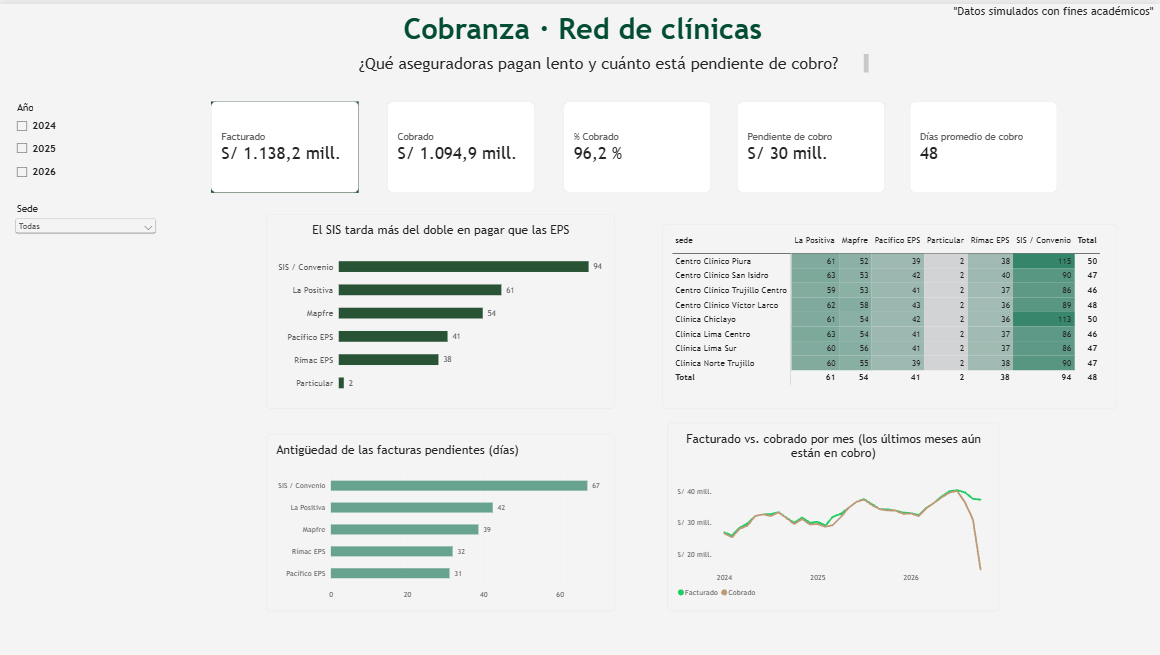

This screenshot's page, from the dashboard's own definition file:
{"tool":"powerbi","page":{"name":"Cobranza","canvas":[1920,1080],"ordinal":3},"visuals":[{"type":"textbox","box":[597.5,82.5,840,37.5],"z":0},{"type":"textbox","box":[670,12.5,952,70],"z":1000},{"type":"textbox","box":[1576,0,344,62],"z":2000},{"type":"slicer","fields":{"Values":["dim_fecha.anio"]},"box":[27.5,160,242.5,150],"z":3000},{"type":"slicer","fields":{"Values":["dim_sede.sede"]},"box":[27.5,327.5,242,76],"z":4000},{"type":"cardVisual","fields":{"Data":["Medidas1.% Cobrado"]},"box":[935,160,243,150],"z":5000},{"type":"cardVisual","fields":{"Data":["Medidas1.Facturado"]},"box":[355,160,243,150],"z":6000},{"type":"cardVisual","fields":{"Data":["Medidas1.Pendiente de cobro"]},"box":[1220,160,243,150],"z":7000},{"type":"cardVisual","fields":{"Data":["Medidas1.Cobrado"]},"box":[645,160,243,150],"z":8000},{"type":"lineChart","title":"Facturado vs. cobrado por mes (los últimos meses aún están en cobro)","fields":{"Category":["dim_fecha.mes"],"Y":["Medidas1.Facturado","Medidas1.Cobrado"]},"box":[1105.1,689.7,546.2,310.3],"z":9000},{"type":"barChart","title":"El SIS tarda más del doble en pagar que las EPS","fields":{"Category":["dim_aseguradora.aseguradora"],"Y":["Medidas1.Días promedio de cobro"]},"box":[443.6,346.2,574.4,320.5],"z":10000},{"type":"pivotTable","fields":{"Columns":["dim_aseguradora.aseguradora"],"Rows":["dim_sede.sede"],"Values":["Medidas1.Días promedio de cobro"]},"box":[1097.4,361.5,748.7,305.1],"z":12000},{"type":"cardVisual","fields":{"Data":["Medidas1.Días promedio de cobro"]},"box":[1505,160,243,150],"z":12001},{"type":"barChart","title":"Antigüedad de las facturas pendientes (días)","fields":{"Category":["dim_aseguradora.aseguradora"],"Y":["Medidas1.Antigüedad promedio pendiente"]},"box":[443.6,707.7,574.4,292.3],"z":12002}]}

Visuals, with their boxes in screenshot pixels (x1, y1, x2, y2), scaled from the page's 1920x1080 canvas onto the 1160x655 screenshot:
textbox: [left=361, top=50, right=868, bottom=73]
textbox: [left=405, top=8, right=980, bottom=50]
textbox: [left=952, top=0, right=1159, bottom=38]
slicer - dim_fecha.anio: [left=17, top=97, right=163, bottom=188]
slicer - dim_sede.sede: [left=17, top=199, right=163, bottom=245]
cardVisual - Medidas1.% Cobrado: [left=565, top=97, right=712, bottom=188]
cardVisual - Medidas1.Facturado: [left=214, top=97, right=361, bottom=188]
cardVisual - Medidas1.Pendiente de cobro: [left=737, top=97, right=884, bottom=188]
cardVisual - Medidas1.Cobrado: [left=390, top=97, right=536, bottom=188]
"Facturado vs. cobrado por mes (los últimos meses aún están en cobro)" lineChart: [left=668, top=418, right=998, bottom=606]
"El SIS tarda más del doble en pagar que las EPS" barChart: [left=268, top=210, right=615, bottom=404]
pivotTable - dim_aseguradora.aseguradora x dim_sede.sede: [left=663, top=219, right=1115, bottom=404]
cardVisual - Medidas1.Días promedio de cobro: [left=909, top=97, right=1056, bottom=188]
"Antigüedad de las facturas pendientes (días)" barChart: [left=268, top=429, right=615, bottom=606]
